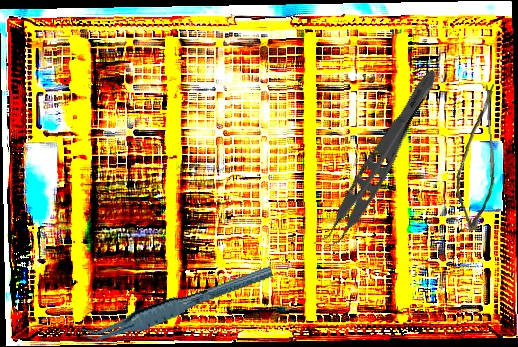Micro Scissor: (449, 80, 505, 232)
Tissue Forceps: (310, 59, 443, 259), (74, 264, 279, 346)
